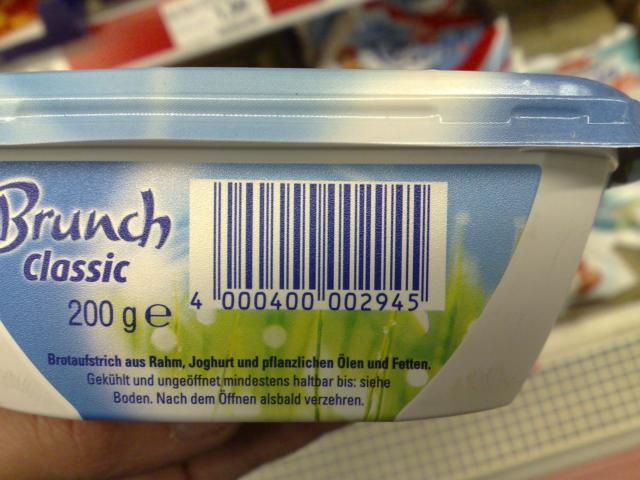Barkod: (210, 180, 430, 290)
